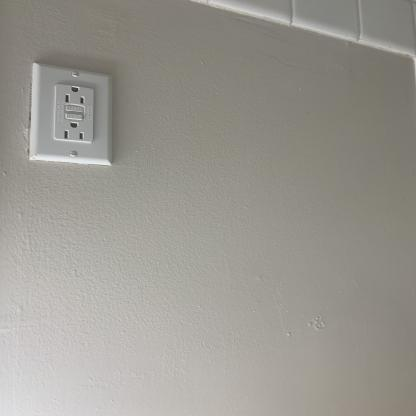OUTLET: (30, 68, 113, 163)
